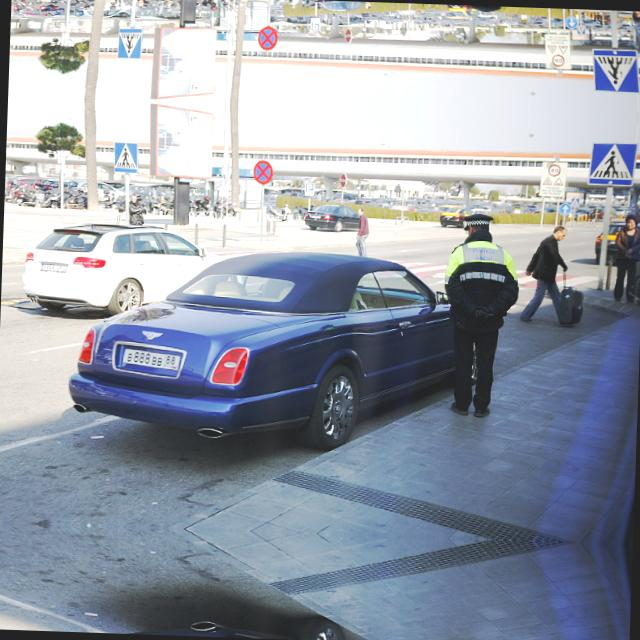citizen: (114, 340, 184, 376), (34, 258, 71, 274)
